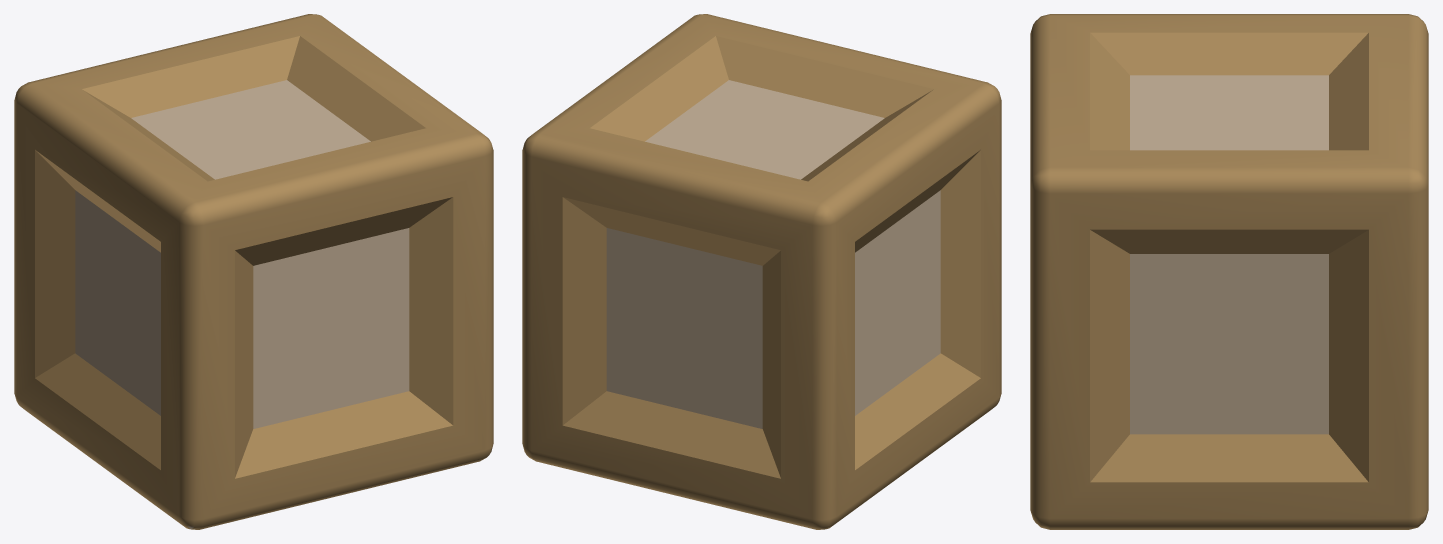
Rendered from woodTile_mesh.fbx.
The picture shows the model from 3 angles, left to right: view 1: azimuth 30°, elevation 25°; view 2: azimuth 150°, elevation 25°; view 3: azimuth 270°, elevation 25°; orthographic projection. The views are drawn at different scales.
Visible parts, largest first — view 1: woodTile_mesh; view 2: woodTile_mesh; view 3: woodTile_mesh.
Boxes of the visible parts, x1,y1,x2,y2 form: woodTile_mesh: [14, 14, 493, 529]; woodTile_mesh: [522, 14, 1001, 529]; woodTile_mesh: [1030, 14, 1428, 529].
Bounding box in the file's own units: 1 × 1 × 1.
